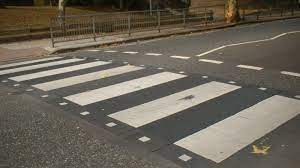zebracross: (1, 53, 283, 164)
